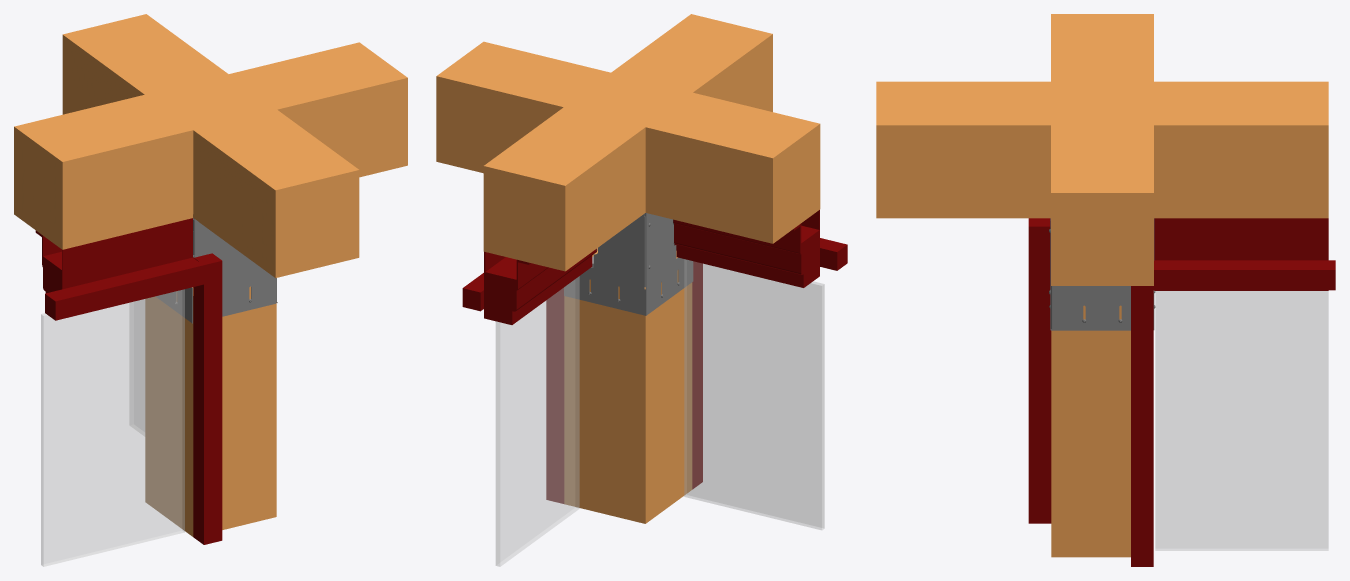
Rendered from столбугловой.obj.
The picture shows the model from 3 angles, left to right: view 1: azimuth 30°, elevation 25°; view 2: azimuth 150°, elevation 25°; view 3: azimuth 270°, elevation 25°; orthographic projection. The views are drawn at different scales.
Bounding box in the file's own units: 0.787 × 0.844 × 0.8125.
